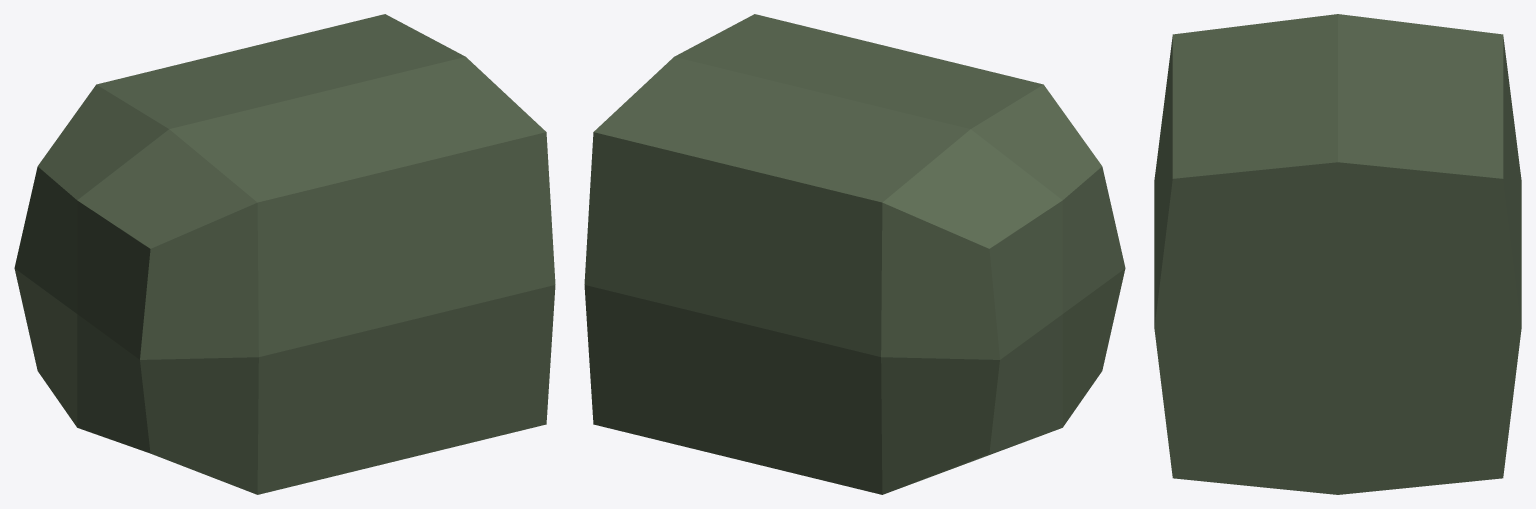
The model's file is weapon_grenadelauncher_bullet.fbx.
3 views of the same model, side by side, from view 1: azimuth 30°, elevation 25°; view 2: azimuth 150°, elevation 25°; view 3: azimuth 270°, elevation 25° (orthographic). The views are drawn at different scales.
Parts seen in each view (by area): view 1: Cube.003; view 2: Cube.003; view 3: Cube.003.
Part boxes in pixels (<box>): Cube.003: <box>14,14,555,494</box>; Cube.003: <box>584,14,1125,494</box>; Cube.003: <box>1154,14,1521,494</box>.
Bounding box in the file's own units: 14.25 × 11.38 × 11.38.
